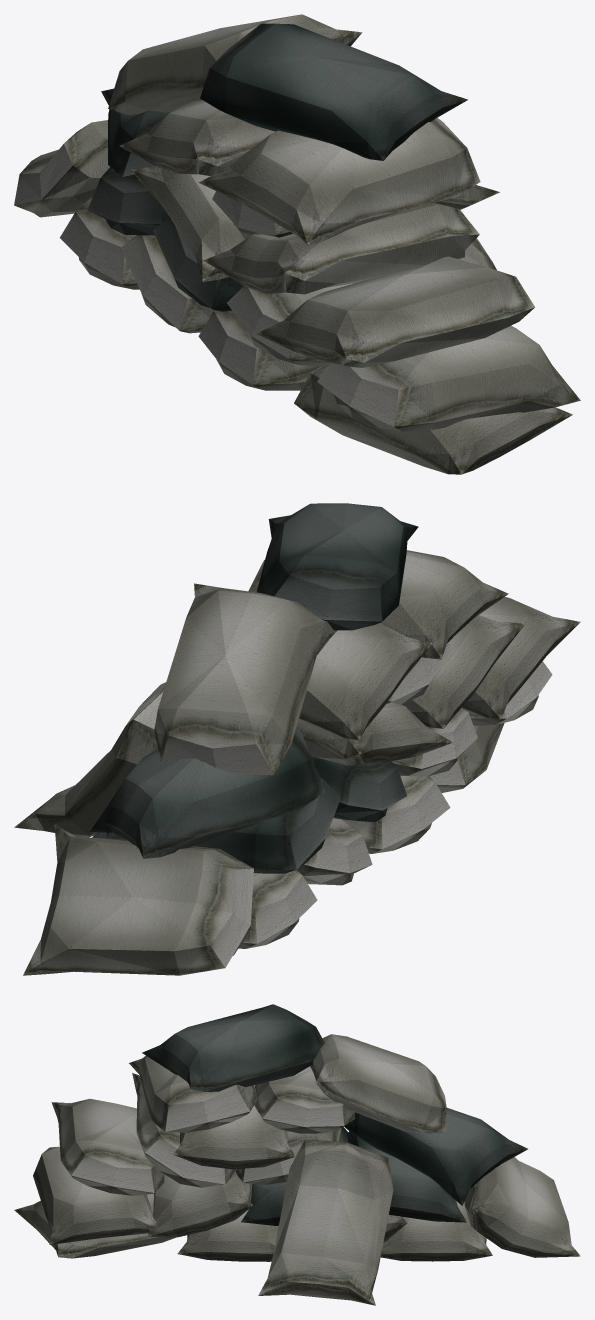
File: bandbags.fbx
3 views of the same model, one above another, from view 1: azimuth 30°, elevation 25°; view 2: azimuth 150°, elevation 25°; view 3: azimuth 270°, elevation 25° (orthographic). The views are drawn at different scales.
Visible parts, largest first — view 1: bags; view 2: bags; view 3: bags.
Part boxes in pixels (bbox=[...]): bags: bbox=[14, 14, 580, 474]; bags: bbox=[14, 503, 580, 975]; bags: bbox=[14, 1004, 580, 1305].
Bounding box in the file's own units: 11.44 × 9.54 × 23.
1 material, 1 textured.
